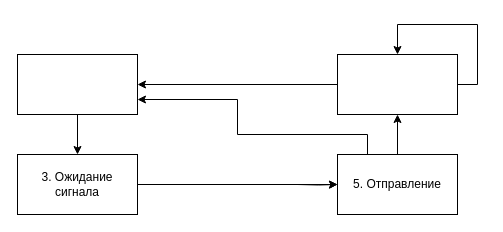
This 503x232 diagram has some shape labels left out. Here are the shapes that lost their labels. From the top down, the box of each, then its label:
(16, 54, 138, 114): 1. Остановка
(336, 54, 458, 114): 2. Движение
